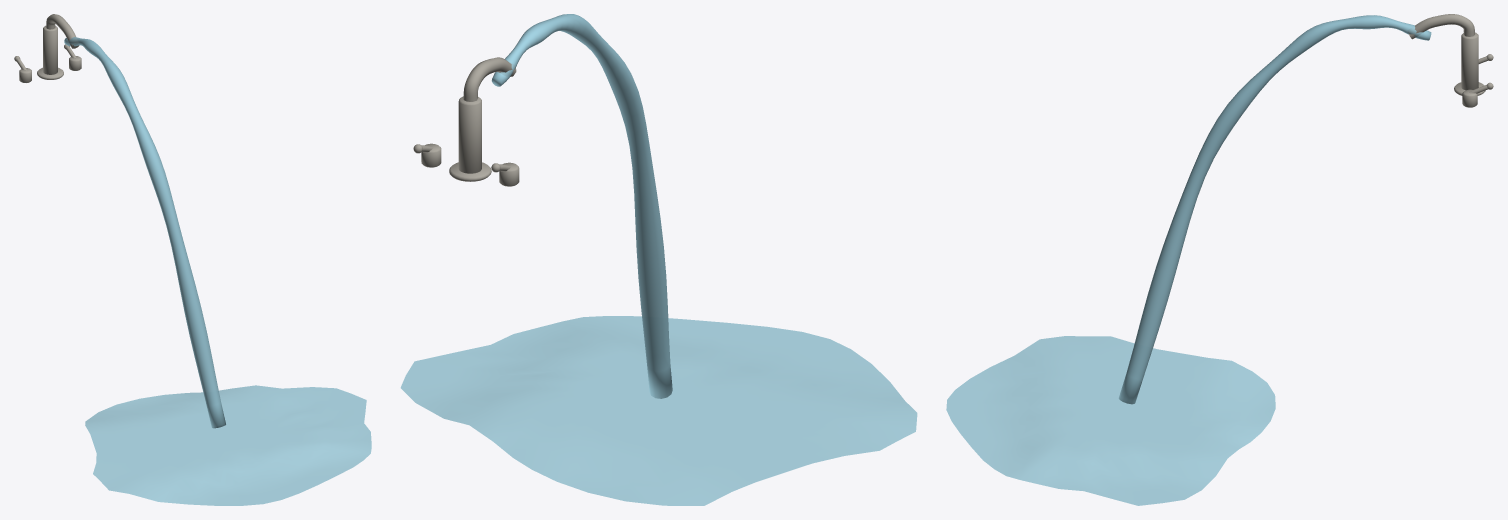
The model's file is faucet.glb.
The picture shows the model from 3 angles, left to right: view 1: azimuth 30°, elevation 25°; view 2: azimuth 150°, elevation 25°; view 3: azimuth 270°, elevation 25°; orthographic projection. The views are drawn at different scales.
Visible parts, largest first — view 1: PuddleMesh, StreamMesh, Column, SpoutArc; view 2: PuddleMesh, StreamMesh, Column, SpoutArc; view 3: PuddleMesh, StreamMesh, Column, SpoutArc.
Boxes of the visible parts, box(x1,y1,x2,y2) form: PuddleMesh: box(85, 385, 371, 505); StreamMesh: box(64, 37, 225, 428); Column: box(43, 25, 57, 74); SpoutArc: box(46, 14, 79, 48); PuddleMesh: box(400, 316, 917, 505); StreamMesh: box(491, 14, 672, 398); Column: box(458, 96, 481, 173); SpoutArc: box(463, 57, 516, 101); PuddleMesh: box(946, 336, 1275, 505); StreamMesh: box(1118, 15, 1431, 404); Column: box(1461, 32, 1478, 90); SpoutArc: box(1408, 14, 1474, 39).
Bounding box in the file's own units: 0.9885 × 1.08 × 1.37.
